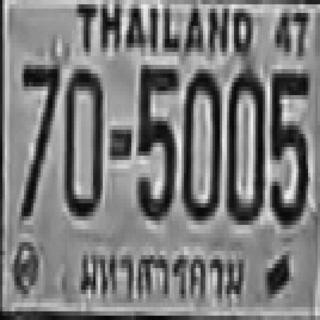N00: (181, 65, 220, 216), (224, 67, 263, 218), (63, 65, 102, 212)
N05: (136, 61, 177, 216), (268, 69, 308, 220)
N07: (22, 61, 57, 216)
P25: (74, 242, 251, 314)
